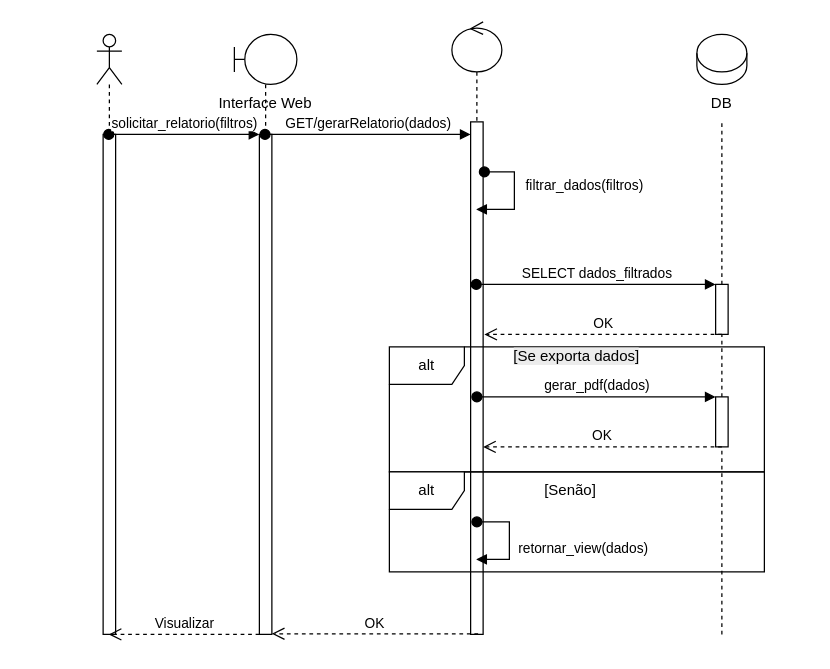
Image size: 830x669. Some labels were removed from this diagram. The shapes that lost their labels are listed below. From the top down, each one's box as (x1, y1, x2, y2) in pixels, then its label:
(96, 33, 122, 634): Agente da Defesa Civil
(451, 21, 502, 634): Controlador da Geração de Arquivos
